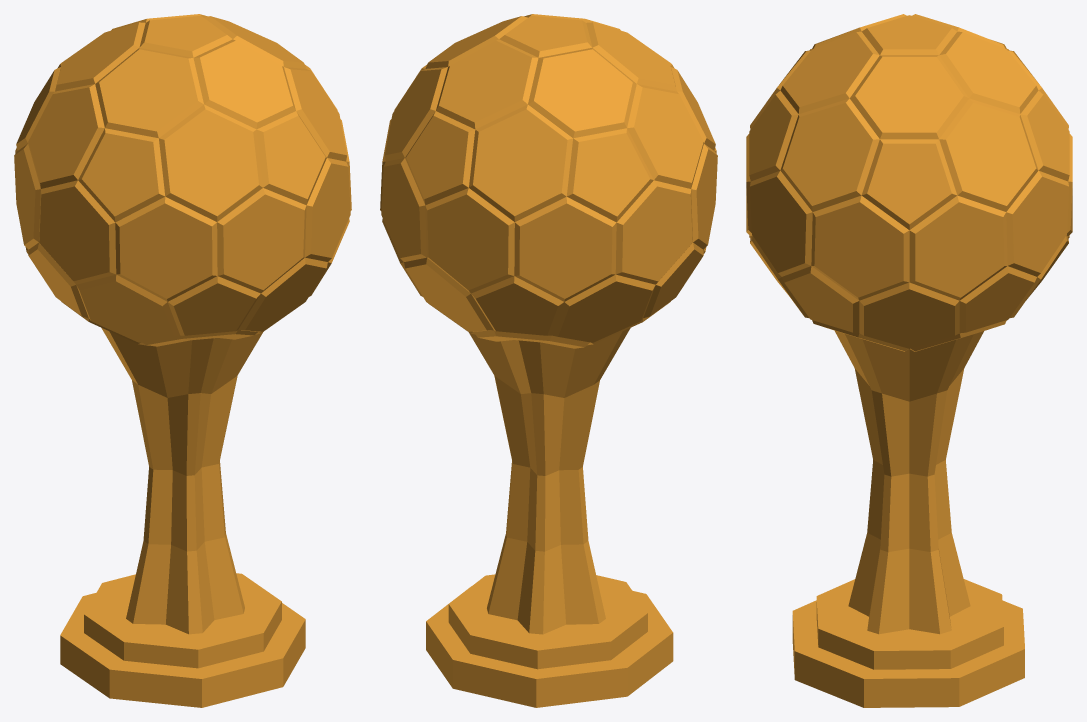
The model's file is Int_Trophy03_1.fbx.
The picture shows the model from 3 angles, left to right: view 1: azimuth 30°, elevation 25°; view 2: azimuth 150°, elevation 25°; view 3: azimuth 270°, elevation 25°; orthographic projection.
Parts seen in each view (by area): view 1: Int_Trophy03_1; view 2: Int_Trophy03_1; view 3: Int_Trophy03_1.
Boxes of the visible parts, left/top/right/bottom form: Int_Trophy03_1: left=14, top=14, right=351, bottom=707; Int_Trophy03_1: left=380, top=14, right=717, bottom=707; Int_Trophy03_1: left=746, top=14, right=1072, bottom=707.
Size of what is drawn, in the model's own units: 25.6 by 24.62 by 52.
